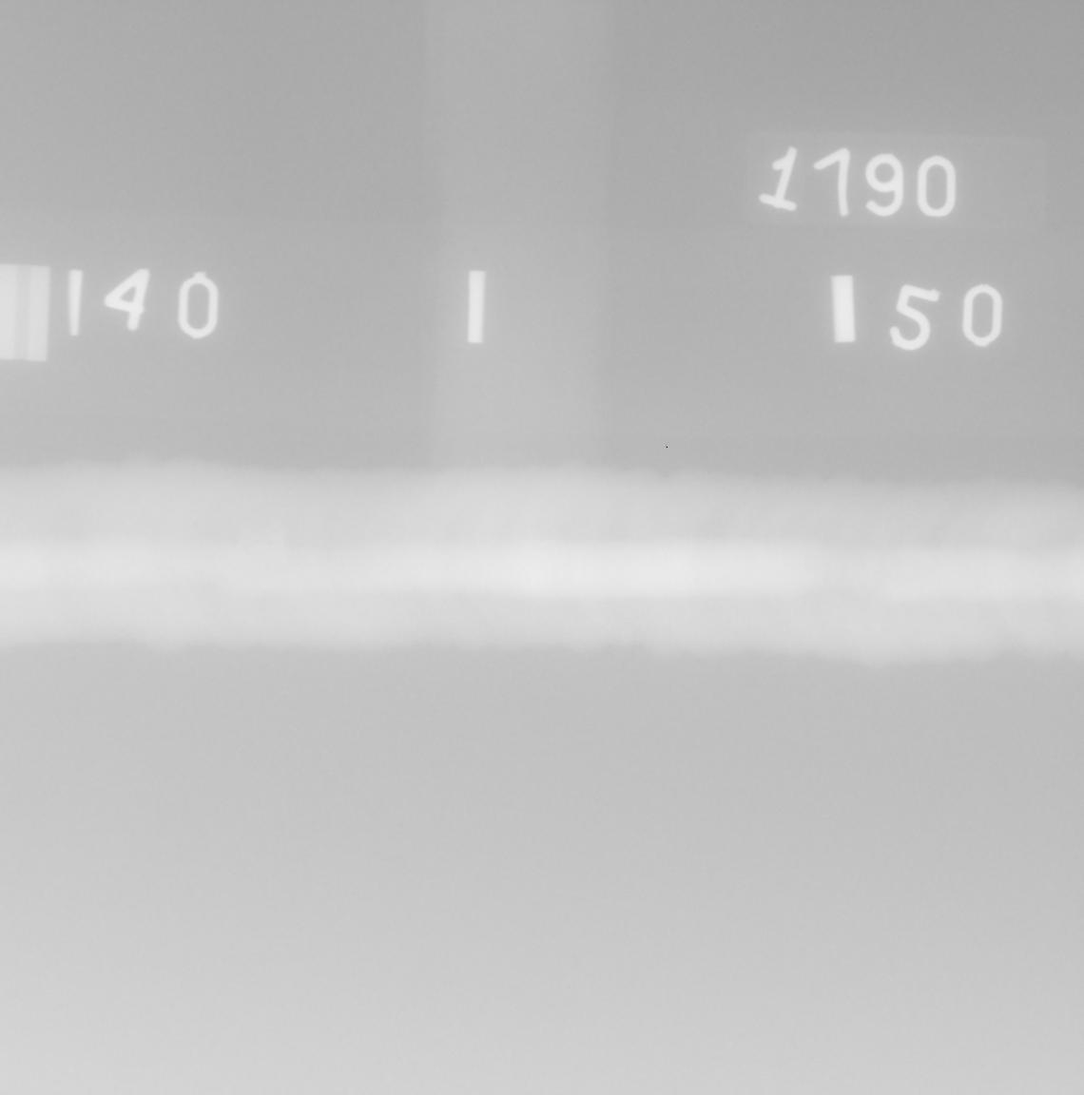Pore/Porosity: (192, 523, 197, 527), (268, 542, 272, 545)
